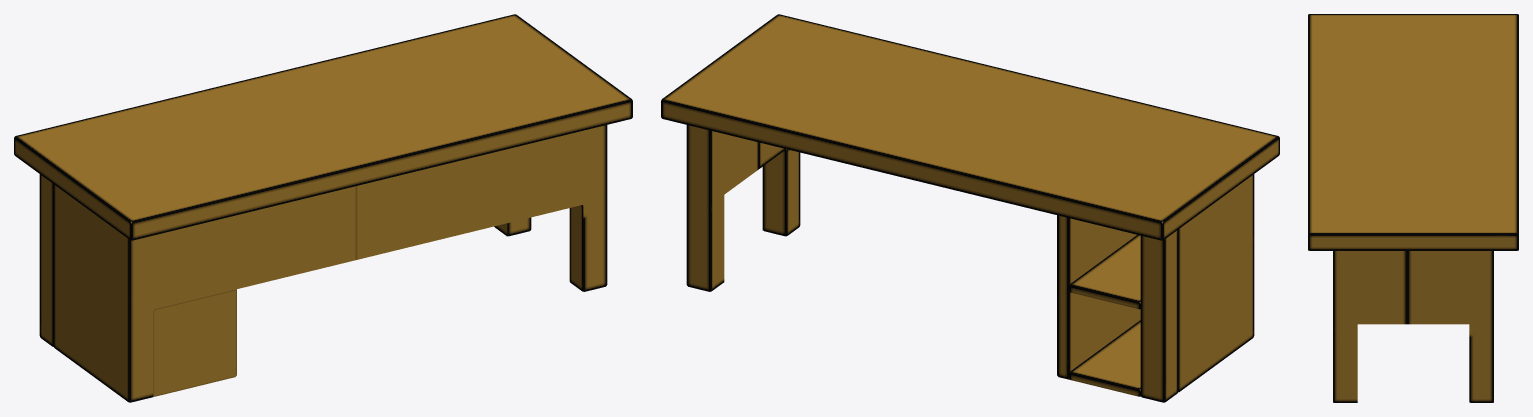
File: table.fbx
3 views of the same model, side by side, from view 1: azimuth 30°, elevation 25°; view 2: azimuth 150°, elevation 25°; view 3: azimuth 270°, elevation 25° (orthographic). The views are drawn at different scales.
Visible parts, largest first — view 1: cube_5, cube, cube_1, cube_3, cube_4; view 2: cube_5, cube, cube_3, cube_2, cube_4, cube_1; view 3: cube_5, cube_2, cube_1.
Part boxes in pixels (x1,y1,x2,y2): cube_5: [14, 14, 632, 240]; cube: [53, 184, 356, 402]; cube_1: [356, 125, 607, 291]; cube_3: [153, 289, 236, 396]; cube_4: [39, 174, 53, 346]; cube_5: [661, 14, 1279, 240]; cube: [1069, 174, 1254, 392]; cube_3: [1057, 215, 1140, 396]; cube_2: [686, 125, 758, 291]; cube_4: [1140, 222, 1178, 402]; cube_1: [759, 142, 800, 236]; cube_5: [1308, 14, 1518, 250]; cube_2: [1407, 251, 1493, 402]; cube_1: [1333, 251, 1407, 402].
Size of the model in its own units: 262 by 96.88 by 106.
1 material, 1 textured.
